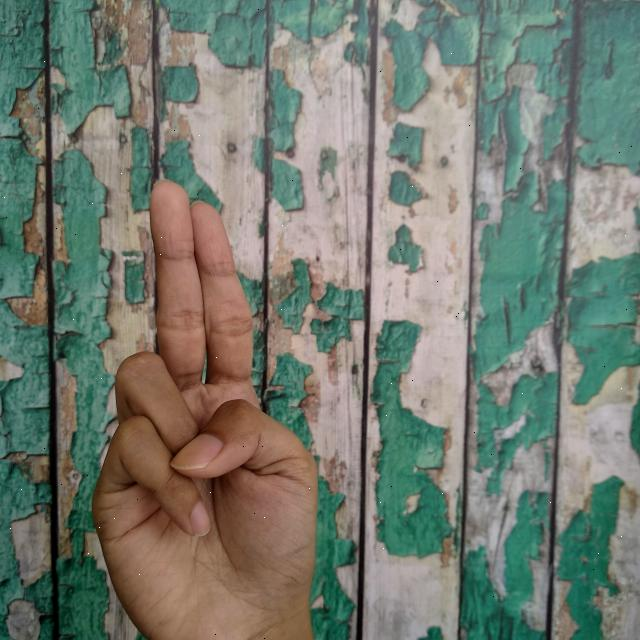U: (82, 175, 324, 640)
